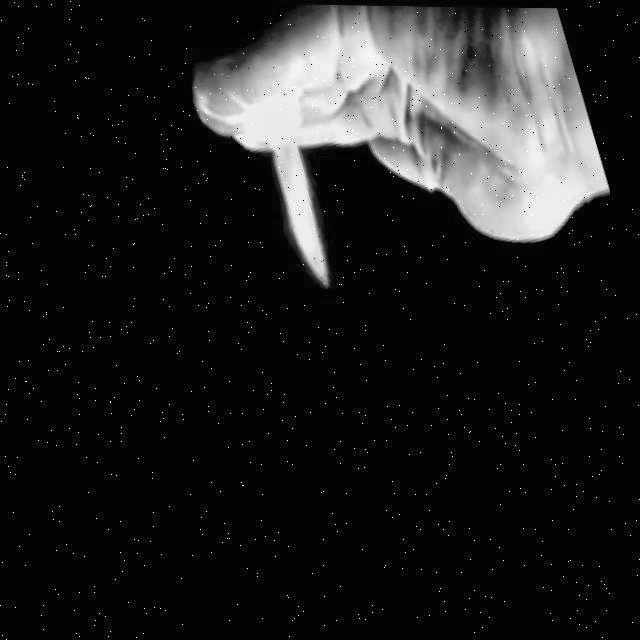Fire: (246, 99, 351, 299)
